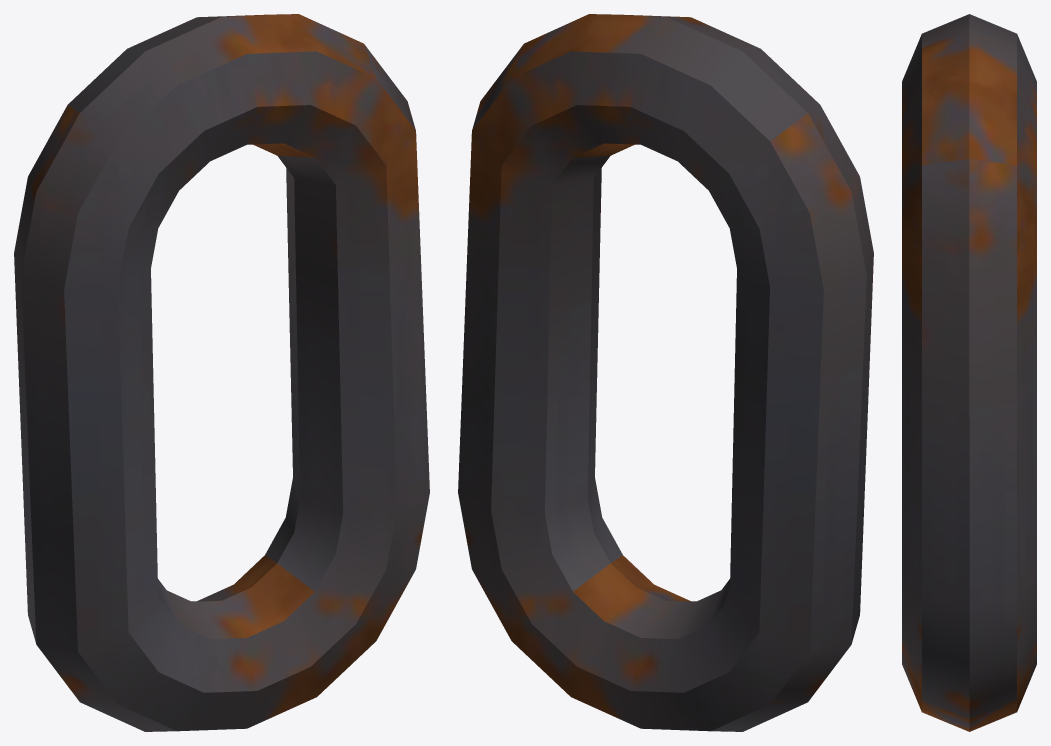
The model's file is Chain_Link.glb.
3 views of the same model, side by side, from view 1: azimuth 30°, elevation 25°; view 2: azimuth 150°, elevation 25°; view 3: azimuth 270°, elevation 25° (orthographic). The views are drawn at different scales.
Visible parts, largest first — view 1: Chain_Link; view 2: Chain_Link; view 3: Chain_Link.
Part boxes in pixels (x1=…): Chain_Link: x1=14, y1=14, x2=429, y2=731; Chain_Link: x1=458, y1=14, x2=873, y2=731; Chain_Link: x1=902, y1=14, x2=1036, y2=731.
Size of the model in its own units: 0.144 by 0.244 by 0.044.
1 material, 1 textured.
